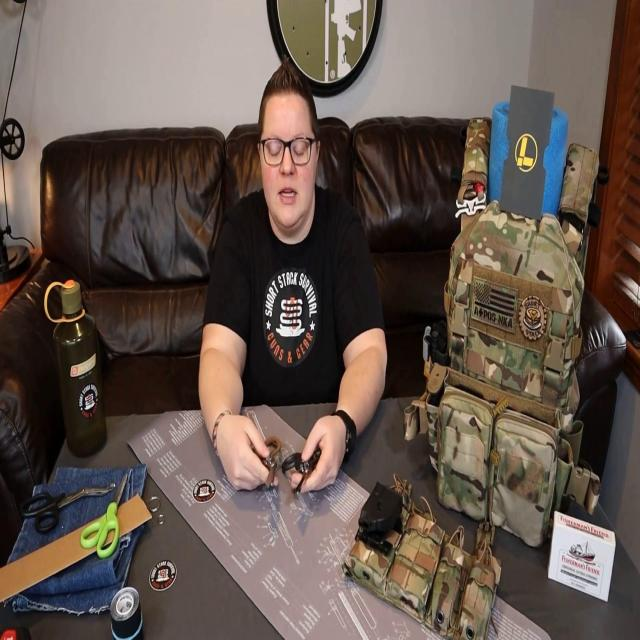scissor: (20, 482, 116, 534), (80, 473, 128, 559), (283, 450, 321, 494), (250, 436, 282, 488)
